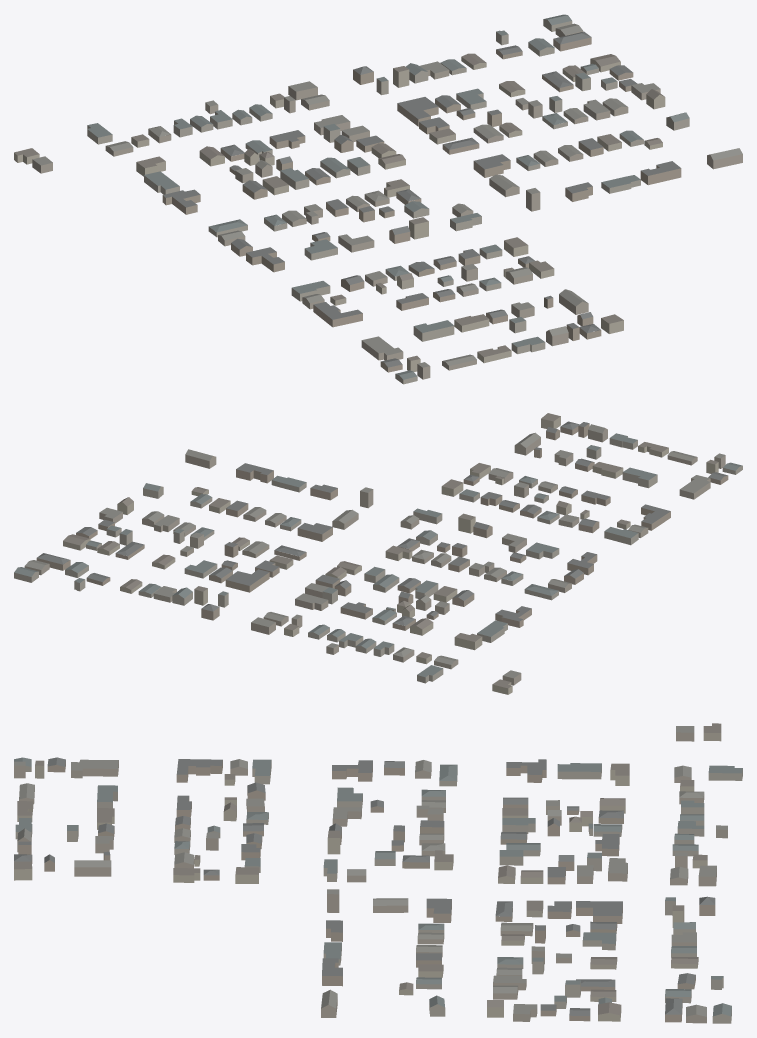
File: b12692b66bc5-chunk-1201_11844.glb
The picture shows the model from 3 angles, top to bottom: view 1: azimuth 30°, elevation 25°; view 2: azimuth 150°, elevation 25°; view 3: azimuth 270°, elevation 25°; orthographic projection. The views are drawn at different scales.
Parts seen in each view (by area): view 1: building_65561, building_109825, building_123864, building_129266, building_72350, building_5949, building_170371, building_111814; view 2: building_65561, building_109825, building_123864, building_170371, building_72350, building_129266, building_5949; view 3: building_65561, building_109825, building_72350, building_71149, building_129266, building_111814, building_169119, building_170371, building_56726, building_123864, building_163510, building_172676.
Boxes of the visible parts, bbox=[...] form: building_65561: bbox=[397, 97, 438, 126]; building_109825: bbox=[313, 302, 362, 327]; building_123864: bbox=[640, 161, 681, 185]; building_129266: bbox=[162, 189, 200, 214]; building_72350: bbox=[361, 336, 403, 360]; building_5949: bbox=[413, 320, 454, 341]; building_170371: bbox=[473, 154, 510, 177]; building_111814: bbox=[246, 247, 284, 272]; building_65561: bbox=[225, 569, 269, 592]; building_109825: bbox=[641, 504, 670, 530]; building_123864: bbox=[236, 463, 273, 483]; building_170371: bbox=[297, 523, 332, 541]; building_72350: bbox=[679, 475, 710, 499]; building_129266: bbox=[495, 606, 531, 627]; building_5949: bbox=[622, 467, 657, 488]; building_65561: bbox=[576, 901, 622, 923]; building_109825: bbox=[176, 759, 222, 782]; building_72350: bbox=[71, 759, 118, 778]; building_71149: bbox=[557, 763, 601, 779]; building_129266: bbox=[506, 759, 546, 782]; building_111814: bbox=[332, 760, 372, 781]; building_169119: bbox=[74, 860, 111, 876]; building_170371: bbox=[426, 898, 451, 922]; building_56726: bbox=[582, 932, 616, 950]; building_123864: bbox=[322, 958, 342, 986]; building_163510: bbox=[373, 898, 408, 912]; building_172676: bbox=[708, 765, 742, 780].
Size of the model in its own units: 371 by 11.14 by 391.
